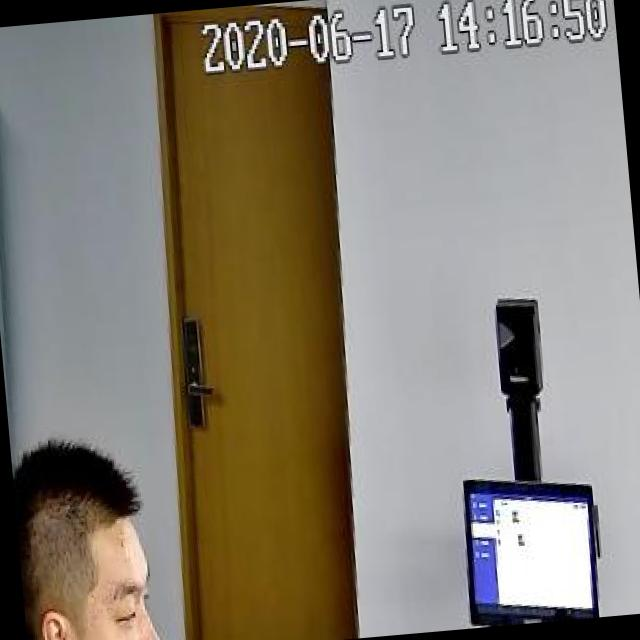Guns: (189, 620, 372, 640)
